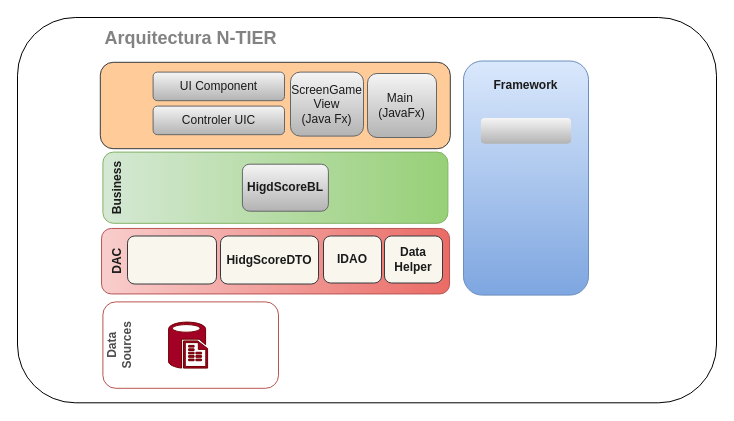
Image size: 734x421. Some labels were removed from this diagram. Each missing label, with the centre of its shape:
"HidgScoreDAO" goes at point (171, 259).
"pom.xml" goes at point (525, 130).
"SQLITE" goes at point (188, 344).
"User Interface" goes at point (274, 105).
